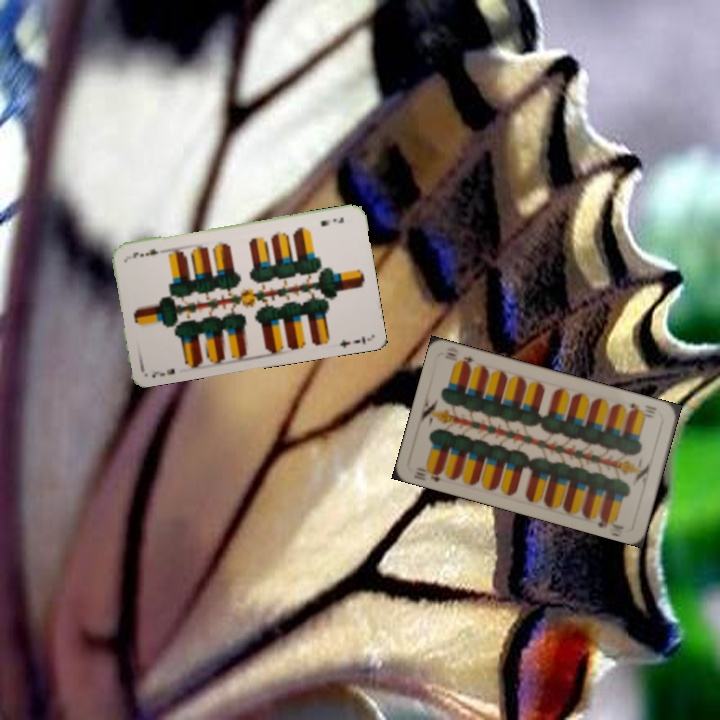E10: (411, 465, 448, 484), (625, 399, 659, 417)
E7: (316, 213, 346, 229), (147, 364, 177, 380)
